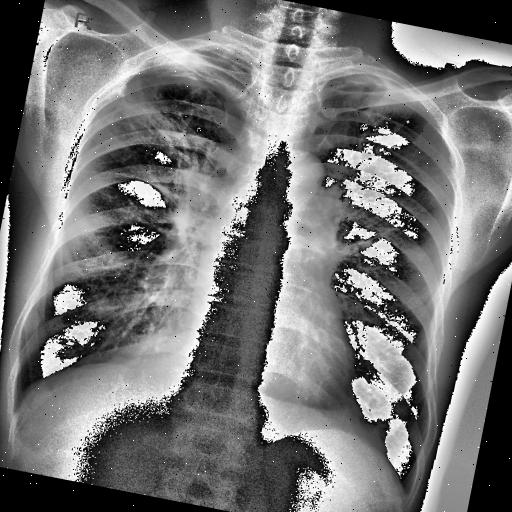11- Pleural thickening: (332, 66, 426, 98), (338, 70, 433, 100), (343, 68, 423, 100)
13- Pulmonary fibrosis: (100, 51, 213, 170), (114, 37, 240, 131), (97, 76, 210, 170), (130, 42, 248, 98), (112, 170, 180, 210)
9- Other lesion: (333, 392, 363, 426)
